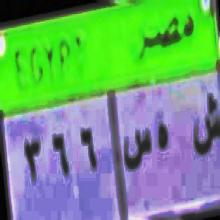3: (19, 130, 44, 197)
6: (52, 129, 71, 182), (80, 121, 98, 175)
haa: (154, 118, 173, 164)
seen: (123, 125, 151, 178)
sheen: (192, 96, 220, 157)
